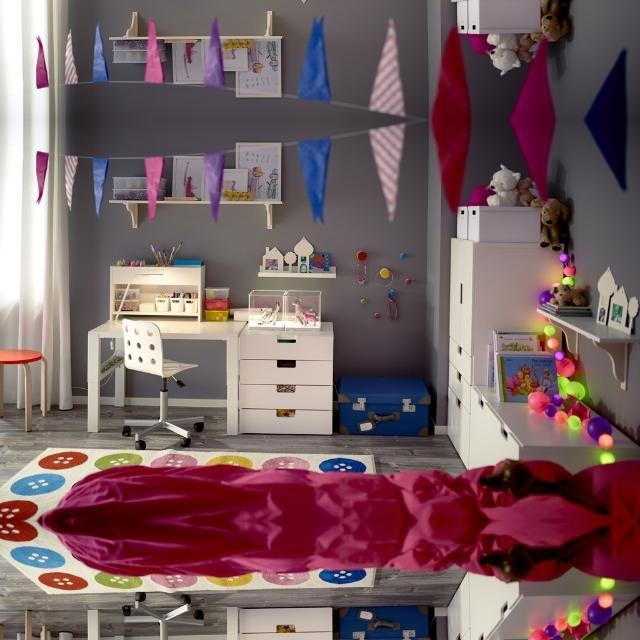obstacle: (442, 228, 636, 466), (43, 459, 640, 520), (43, 521, 640, 582), (86, 306, 337, 436), (442, 576, 636, 640), (118, 316, 208, 452), (85, 606, 336, 640), (338, 370, 432, 436), (1, 342, 52, 433), (117, 590, 208, 640), (338, 606, 432, 640), (442, 0, 636, 9), (0, 608, 51, 640)
